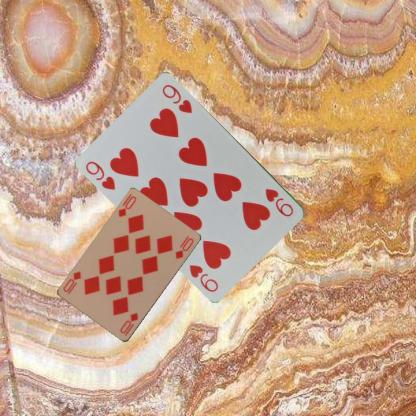10d: (117, 310, 140, 338), (115, 192, 138, 219)
9h: (83, 158, 117, 192), (263, 185, 295, 218)
